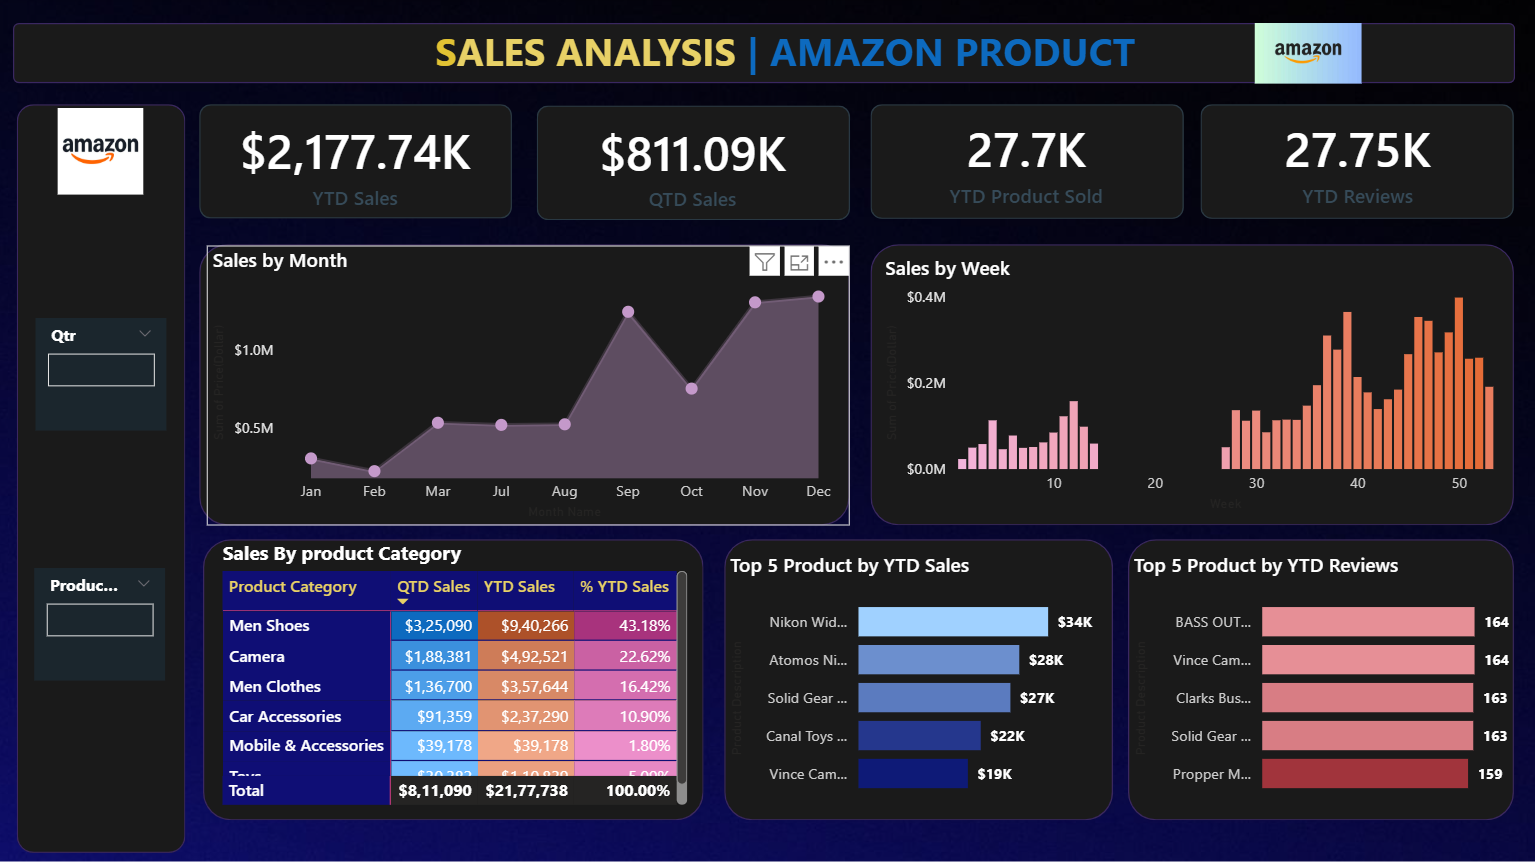

This screenshot's page, from the dashboard's own definition file:
{"tool":"powerbi","page":{"name":"Page 1","canvas":[1280,720],"ordinal":0},"visuals":[{"type":"shape","box":[12.8,20.9,1248.8,50],"z":0},{"type":"shape","box":[167.9,88.4,260,95],"z":0,"group":"g1"},{"type":"textbox","box":[358.1,17.4,605.8,53.5],"z":1000},{"type":"shape","box":[447.7,89.6,260.5,95.3],"z":1000,"group":"g1"},{"type":"shape","box":[15.6,88.3,140.3,622.5],"z":2000},{"type":"card","fields":{"Values":["Amazon_Data.QTD Sales"]},"box":[446.5,91.9,261.6,94.2],"z":2000,"group":"g1"},{"type":"group","id":"g1","title":"Group 1","box":[166.3,88.4,1095.4,97.7],"z":3000},{"type":"shape","box":[725.6,88.4,260.5,95.3],"z":3000,"group":"g1"},{"type":"shape","box":[1000,88.4,260.5,95.3],"z":4000,"group":"g1"},{"type":"shape","box":[167.4,204.7,540.7,233.7],"z":4000},{"type":"card","fields":{"Values":["Amazon_Data.YTD Sales"]},"box":[166.3,90.8,261.6,94.2],"z":5000,"group":"g1"},{"type":"areaChart","title":"Sales by Month","fields":{"Category":["Date Table.Month Name"],"Y":["Sum(Amazon_Data.Price(Dollar))"]},"box":[173.3,205.8,534.9,232.6],"z":5000},{"type":"card","fields":{"Values":["Amazon_Data.YTD Product Sold"]},"box":[724.4,89.6,261.6,93],"z":6000,"group":"g1"},{"type":"shape","box":[725.6,204.7,534.9,233.7],"z":6000},{"type":"card","fields":{"Values":["Amazon_Data.YTD Reviews"]},"box":[1000,88.4,261.6,94.2],"z":7000,"group":"g1"},{"type":"columnChart","title":"Sales by Week","fields":{"Category":["Date Table.Week"],"Y":["Sum(Amazon_Data.Price(Dollar))"]},"box":[732.6,212.8,519.8,218.6],"z":7000},{"type":"shape","box":[170.9,450,416.3,233.7],"z":8000},{"type":"pivotTable","title":"Sales By product Category","fields":{"Rows":["Amazon_Data.Product Category"],"Values":["Amazon_Data.QTD Sales","Amazon_Data.YTD Sales1","Amazon_Data.YTD Sales"]},"box":[181.4,450,396.5,225.6],"z":9000},{"type":"shape","box":[603.5,450,323.3,233.7],"z":10000},{"type":"shape","box":[939.5,450,320.9,233.7],"z":11000},{"type":"clusteredBarChart","title":"Top 5 Product by YTD Sales","fields":{"Category":["Amazon_Data.Product Description"],"Y":["Amazon_Data.YTD Sales"]},"box":[603.5,459.3,323.3,216.3],"z":12000},{"type":"clusteredBarChart","title":"Top 5 Product by YTD Reviews","fields":{"Category":["Amazon_Data.Product Description"],"Y":["Amazon_Data.YTD Reviews"]},"box":[939.5,459.3,323.3,216.3],"z":13000},{"type":"slicer","fields":{"Values":["Amazon_Data.Product Category"]},"box":[30.1,473.9,109.1,93.5],"z":14000},{"type":"slicer","fields":{"Values":["Date Table.Qtr"]},"box":[31.2,266.1,109.1,93.5],"z":15000},{"type":"image","box":[1018.6,20.9,141.9,50],"z":16000},{"type":"image","box":[0,91.5,170.4,71.7],"z":17000}]}

Visuals, with their boxes in screenshot pixels (x1, y1, x2, y2), scaled from the page's 1280x720 canvas onto the 1535x862 screenshot:
shape: 15,25,1513,85
shape: 201,106,513,220
textbox: 429,21,1156,85
shape: 537,107,849,221
shape: 19,106,187,851
card - Amazon_Data.QTD Sales: 535,110,849,223
"Group 1" group: 199,106,1513,223
shape: 870,106,1183,220
shape: 1199,106,1512,220
shape: 201,245,849,525
card - Amazon_Data.YTD Sales: 199,109,513,221
"Sales by Month" areaChart: 208,246,849,525
card - Amazon_Data.YTD Product Sold: 869,107,1182,219
shape: 870,245,1512,525
card - Amazon_Data.YTD Reviews: 1199,106,1513,219
"Sales by Week" columnChart: 879,255,1502,516
shape: 205,539,704,819
"Sales By product Category" pivotTable: 218,539,693,809
shape: 724,539,1111,819
shape: 1127,539,1511,819
"Top 5 Product by YTD Sales" clusteredBarChart: 724,550,1111,809
"Top 5 Product by YTD Reviews" clusteredBarChart: 1127,550,1514,809
slicer - Amazon_Data.Product Category: 36,567,167,679
slicer - Date Table.Qtr: 37,319,168,431
image: 1222,25,1392,85
image: 0,110,204,195
